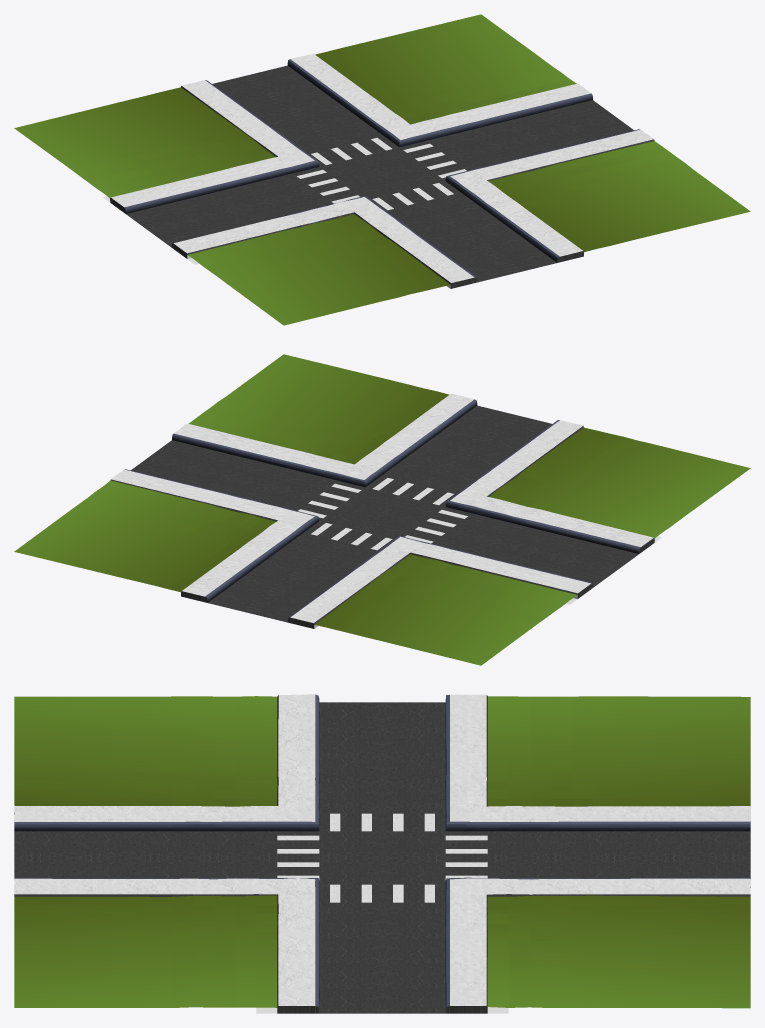
The model's file is city.glb.
3 renders of one model, top to bottom at view 1: azimuth 30°, elevation 25°; view 2: azimuth 150°, elevation 25°; view 3: azimuth 270°, elevation 25°, orthographic. The views are drawn at different scales.
Visible parts, largest first — view 1: Plane; view 2: Plane; view 3: Plane.
Boxes of the visible parts, box(x1,y1,x2,y2) form: Plane: box(14, 14, 750, 325); Plane: box(14, 354, 750, 665); Plane: box(14, 694, 750, 1013).
Bounding box in the file's own units: 70.04 × 0.8695 × 70.05.
Materials: 3 (3 with a texture image).
